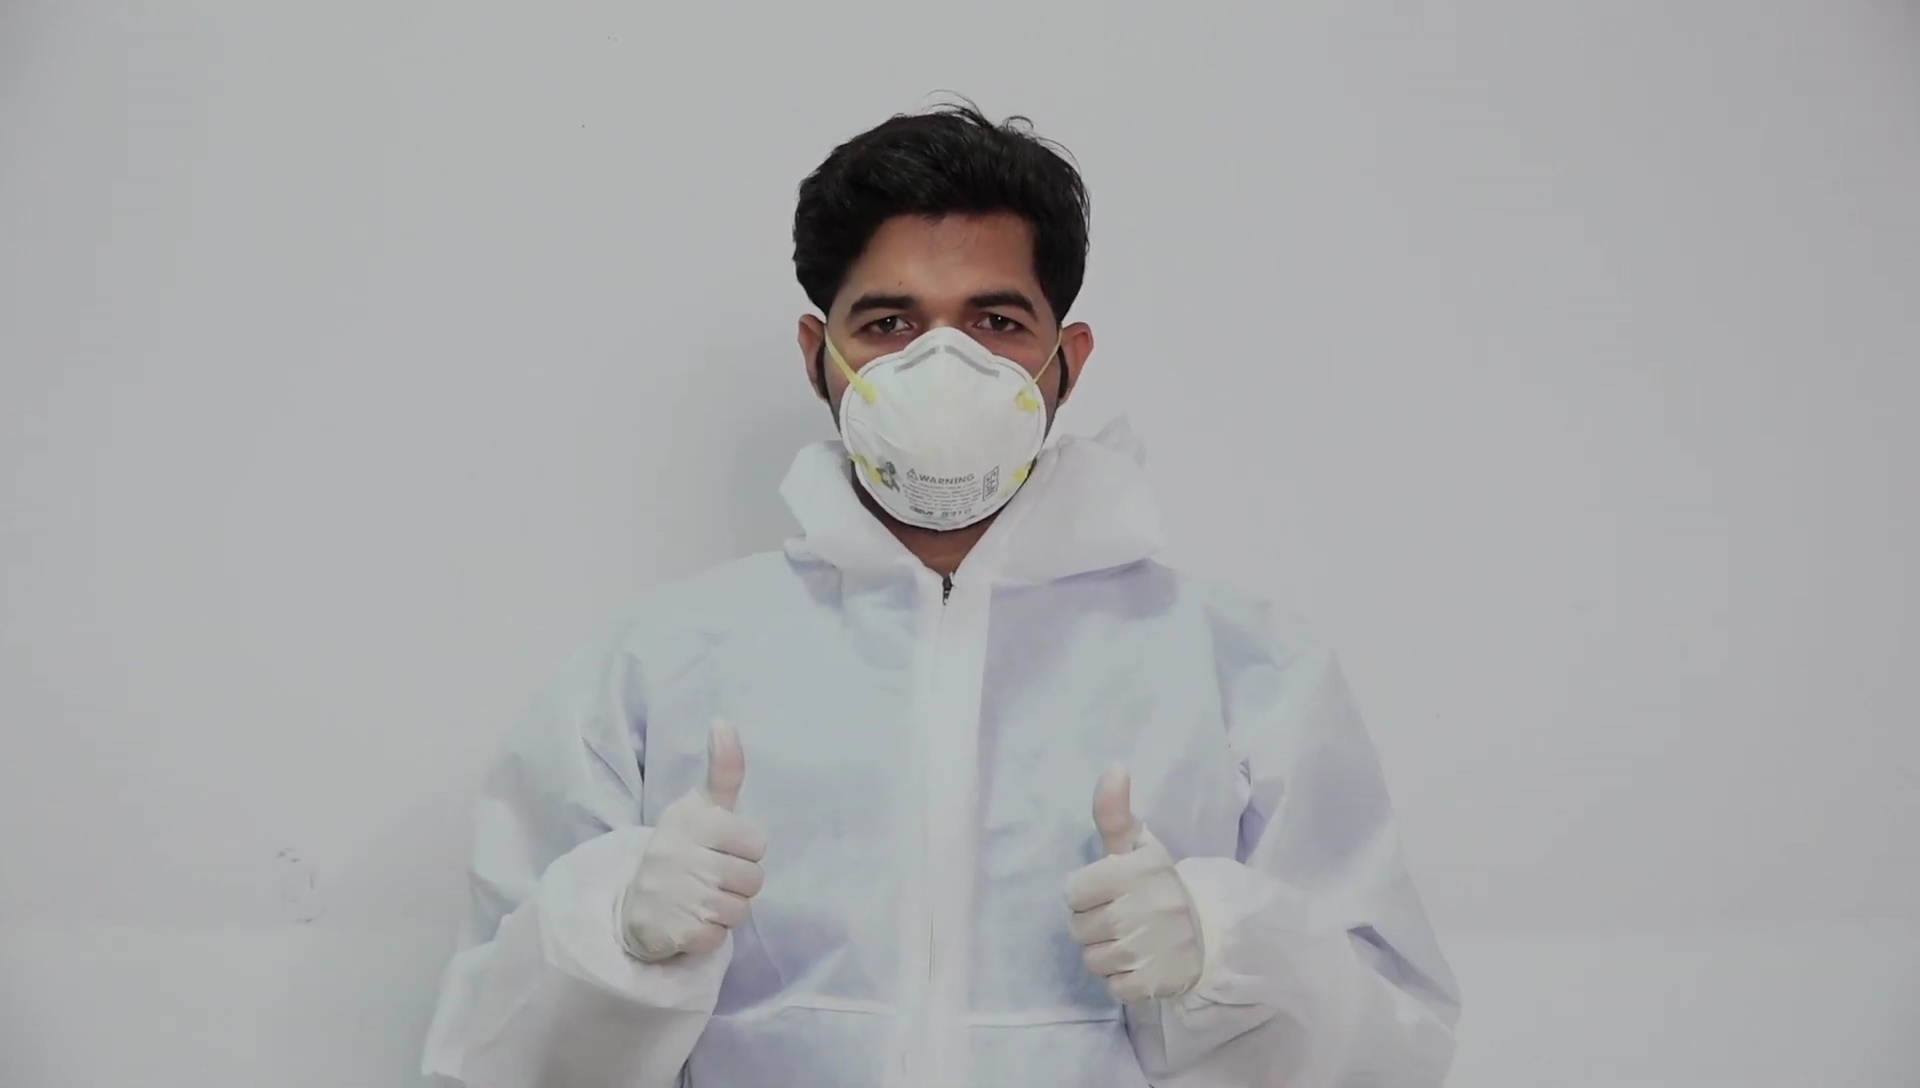Coverall: (425, 536, 1458, 1088)
Gloves: (614, 721, 766, 969), (1064, 762, 1205, 1004)
with_mask: (831, 309, 1048, 532)
